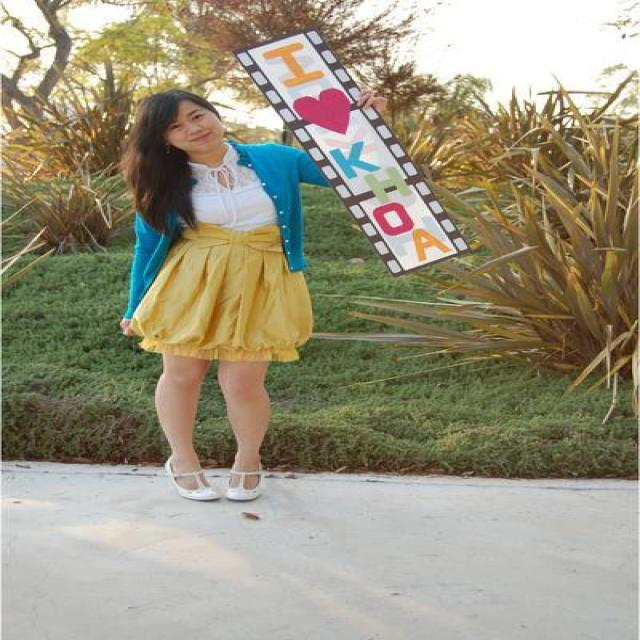jacket: (123, 141, 325, 318)
shirt: (190, 145, 276, 230)
shoe: (174, 472, 274, 502)
skirt: (120, 218, 325, 364)
